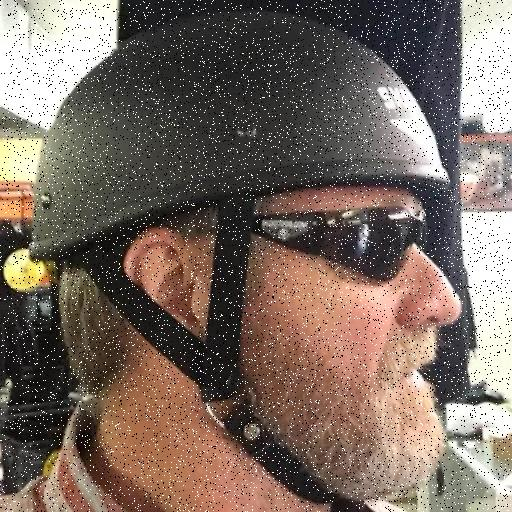Helmet: (30, 26, 452, 241)
